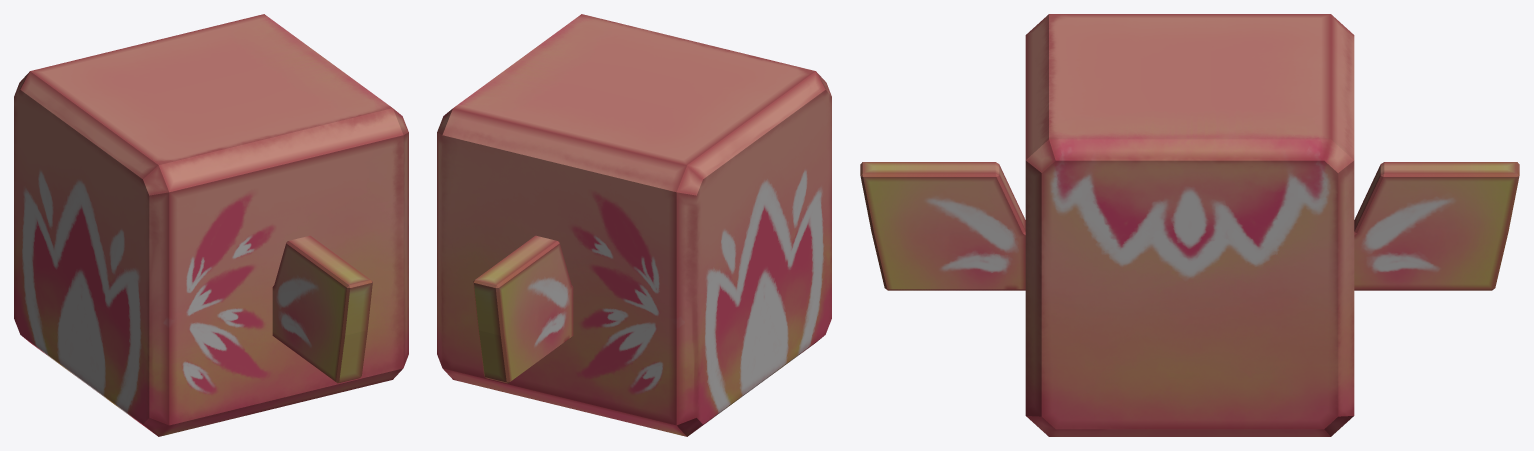
File: bird_totem2_wing.fbx
3 views of the same model, side by side, from view 1: azimuth 30°, elevation 25°; view 2: azimuth 150°, elevation 25°; view 3: azimuth 270°, elevation 25° (orthographic). The views are drawn at different scales.
Visible parts, largest first — view 1: Cube.005, Plane.frozen; view 2: Cube.005, Plane.frozen; view 3: Cube.005, Plane.frozen.
Boxes of the visible parts, x1,y1,x2,y2 form: Cube.005: (14, 14, 408, 436); Plane.frozen: (272, 235, 372, 383); Cube.005: (437, 14, 831, 436); Plane.frozen: (473, 235, 573, 383); Cube.005: (1025, 14, 1354, 436); Plane.frozen: (860, 162, 1519, 290).
Bounding box in the file's own units: 100 × 100 × 201.
2 materials, 2 textured.
